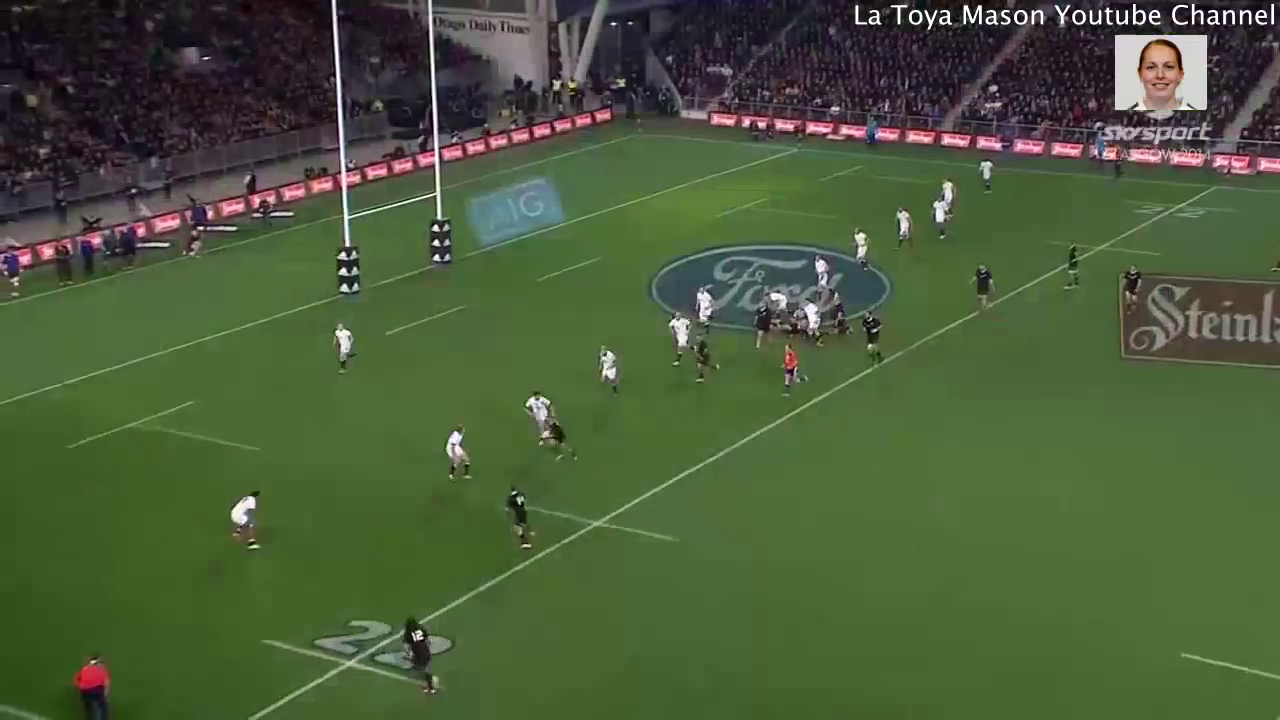player: (391, 616, 443, 700), (217, 489, 270, 558), (70, 654, 116, 720), (441, 424, 478, 488), (503, 482, 535, 548), (540, 413, 577, 468), (773, 344, 809, 400), (329, 319, 361, 377), (855, 309, 885, 368), (665, 309, 694, 369), (590, 345, 621, 397), (1117, 263, 1148, 315), (688, 336, 717, 386), (749, 297, 775, 351), (1058, 241, 1084, 295), (795, 295, 823, 344), (966, 262, 993, 312), (521, 390, 551, 429), (809, 257, 836, 296), (827, 300, 853, 340), (889, 204, 911, 250), (849, 226, 869, 275), (975, 156, 997, 200), (695, 285, 715, 332), (937, 178, 960, 214), (933, 196, 948, 244)
post: (322, 2, 453, 306)
